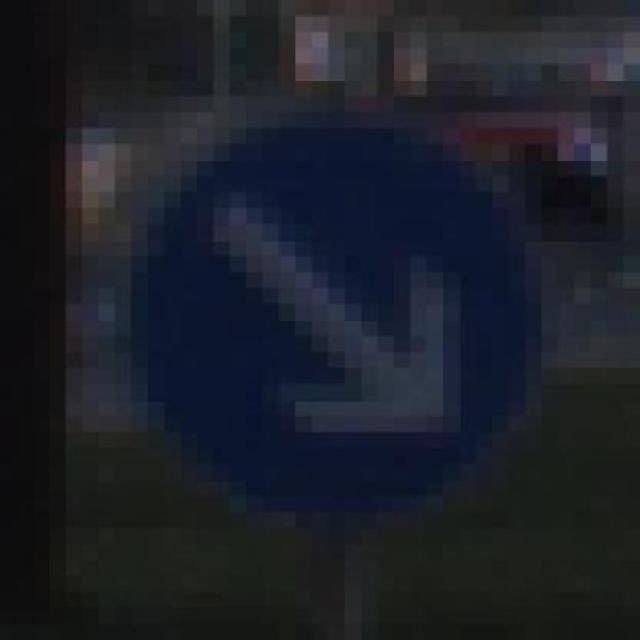Keep-Right: (115, 80, 558, 512)
